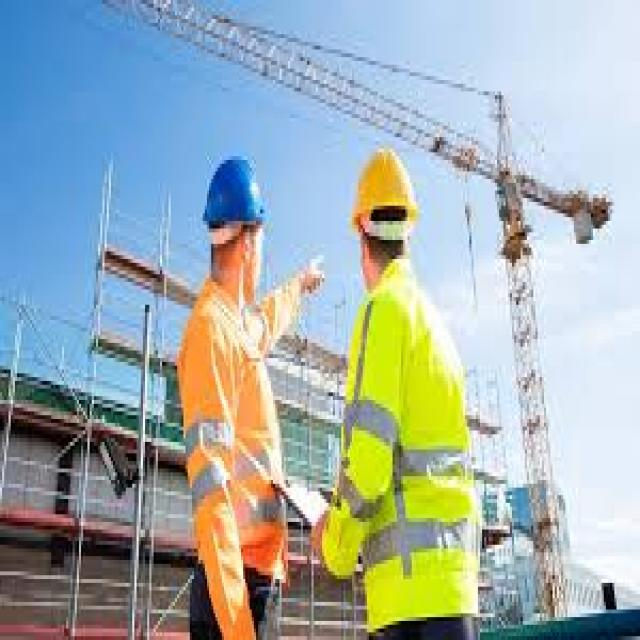Reflective-Jacket: (324, 267, 486, 636), (169, 282, 290, 617)
Safety-Helmet: (346, 137, 422, 244), (194, 145, 275, 244)
